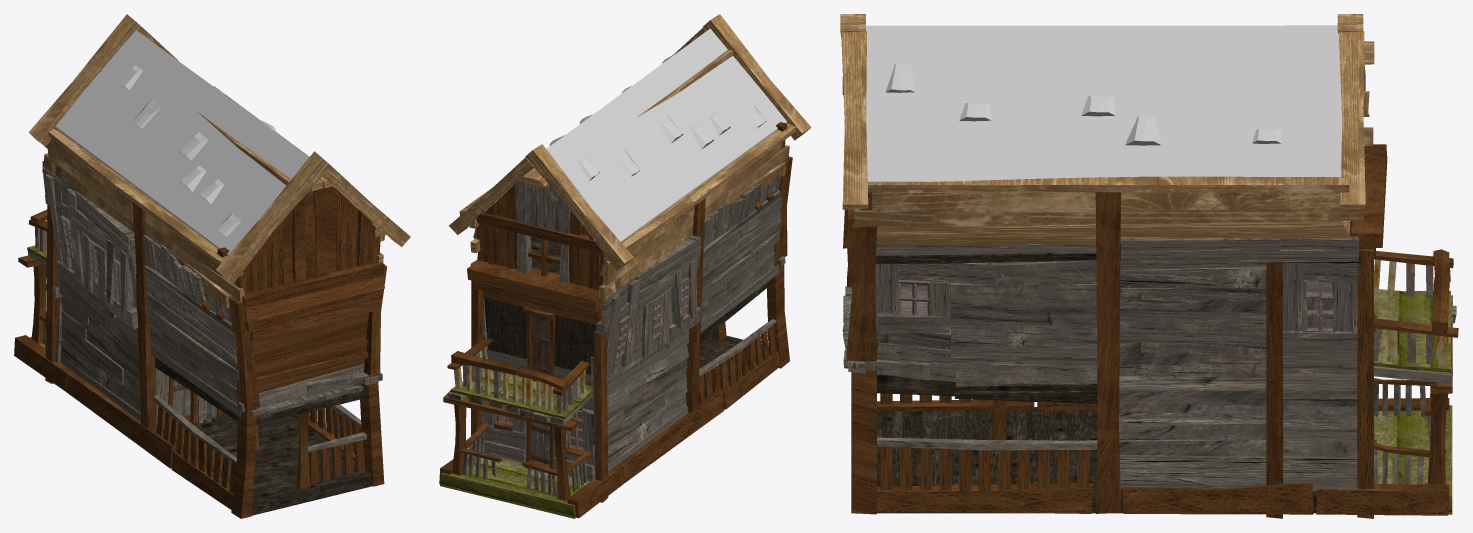
Rendered from SM_WoodHouse.fbx.
3 views of the same model, side by side, from view 1: azimuth 30°, elevation 25°; view 2: azimuth 150°, elevation 25°; view 3: azimuth 270°, elevation 25° (orthographic). The views are drawn at different scales.
Parts seen in each view (by area): view 1: Cube.246, Cube.070, Cube.245, Cube.090, Cube.242, Cube.071, Cube.239, Cube.307, Cube.217, Cube.074, Cube.175, Cube.260 (+65 smaller); view 2: Cube.246, Cube, Cube.198, Cube.239, Cube.041, Cube.242, Cube.071, Cube.245, Cube.307, Cube.159, Cube.039, Cube.158 (+67 smaller); view 3: Cube.228, Cube.070, Cube.258, Cube.257, Cube.080, Cube.241, Cube.255, Cube.306, Cube.077, Cube.076, Cube.012, Cube.238 (+68 smaller).
Boxes of the visible parts, x1,y1,x2,y2 form: Cube.246: (55, 30, 309, 255); Cube.070: (163, 415, 372, 515); Cube.245: (216, 151, 330, 283); Cube.090: (133, 202, 156, 428); Cube.242: (48, 128, 227, 265); Cube.071: (66, 372, 176, 468); Cube.239: (28, 14, 143, 146); Cube.307: (156, 406, 236, 493); Cube.217: (242, 262, 384, 308); Cube.074: (231, 401, 256, 518); Cube.175: (228, 297, 259, 410); Cube.260: (47, 149, 244, 302); Cube.246: (546, 28, 787, 241); Cube: (440, 453, 589, 518); Cube.198: (467, 260, 603, 312); Cube.239: (525, 144, 633, 270); Cube.041: (454, 347, 586, 413); Cube.242: (622, 123, 796, 250); Cube.071: (617, 389, 724, 482); Cube.245: (703, 14, 811, 140); Cube.307: (698, 325, 775, 403); Cube.159: (484, 297, 527, 358); Cube.039: (593, 330, 608, 502); Cube.158: (554, 315, 596, 374); Cube.228: (866, 25, 1342, 182); Cube.070: (877, 407, 1316, 513); Cube.258: (872, 192, 1340, 212); Cube.257: (876, 220, 1350, 245); Cube.080: (1095, 192, 1121, 513); Cube.241: (867, 176, 1349, 192); Cube.255: (854, 207, 1363, 226); Cube.306: (880, 447, 1089, 493); Cube.077: (877, 483, 1092, 513); Cube.076: (1122, 483, 1313, 514); Cube.012: (1119, 455, 1357, 479); Cube.238: (841, 31, 868, 209).
Size of the model in its own units: 785 by 1416 by 1702.
